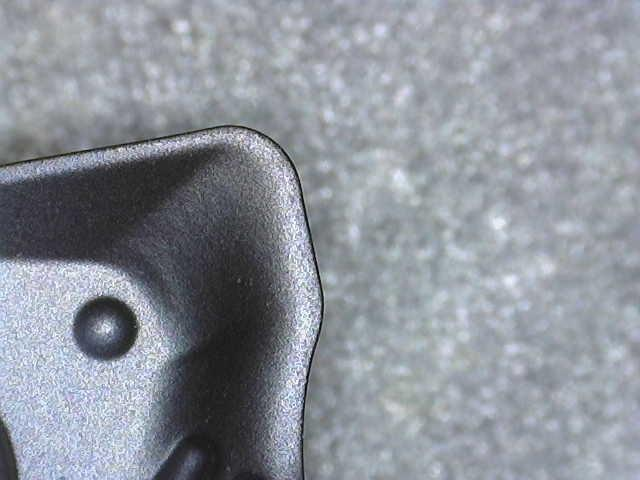normal: (0, 116, 326, 480)
